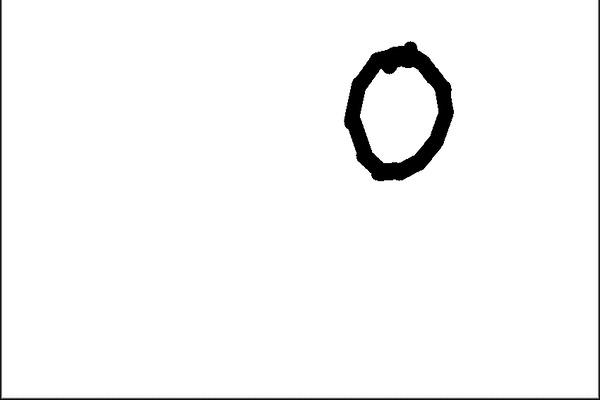O: (333, 30, 468, 197)
